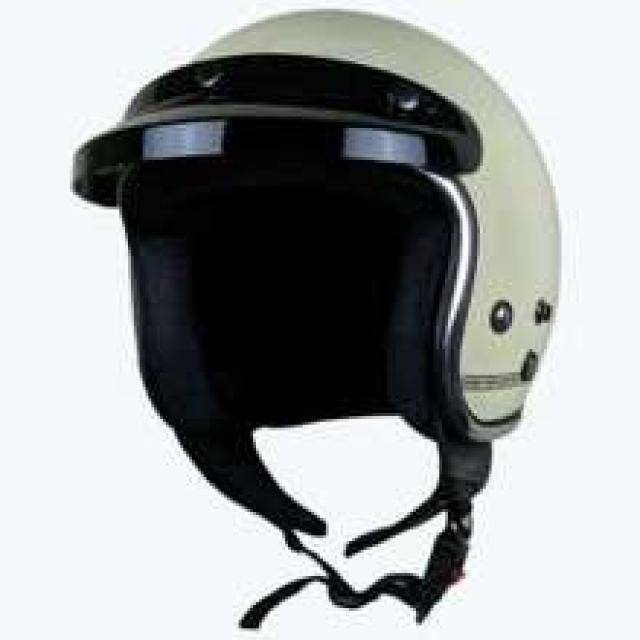Helm: (67, 4, 565, 638)
